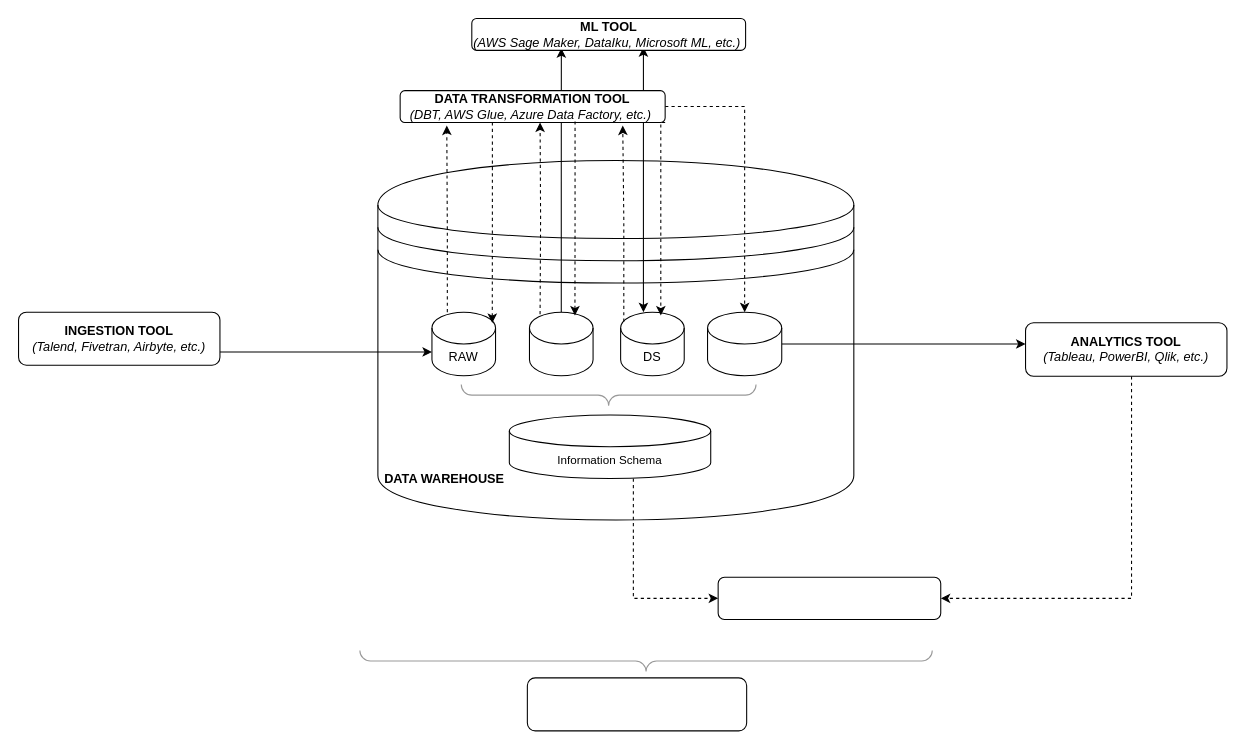
Some shapes in this 1245 by 749 pixel diagram are drawn without their labels. The centre of each missing label's shape, as x and y in pixels:
ANALYTICS: point 744,343
DATA CATALOG TOOL (CastorDoc, Atlan, Metaphor, etc.): point 829,598
DATA GOVERNANCE TOOL (Immuta, Collibra, Unity catalog, etc.): point 636,704
INT: point 560,343
